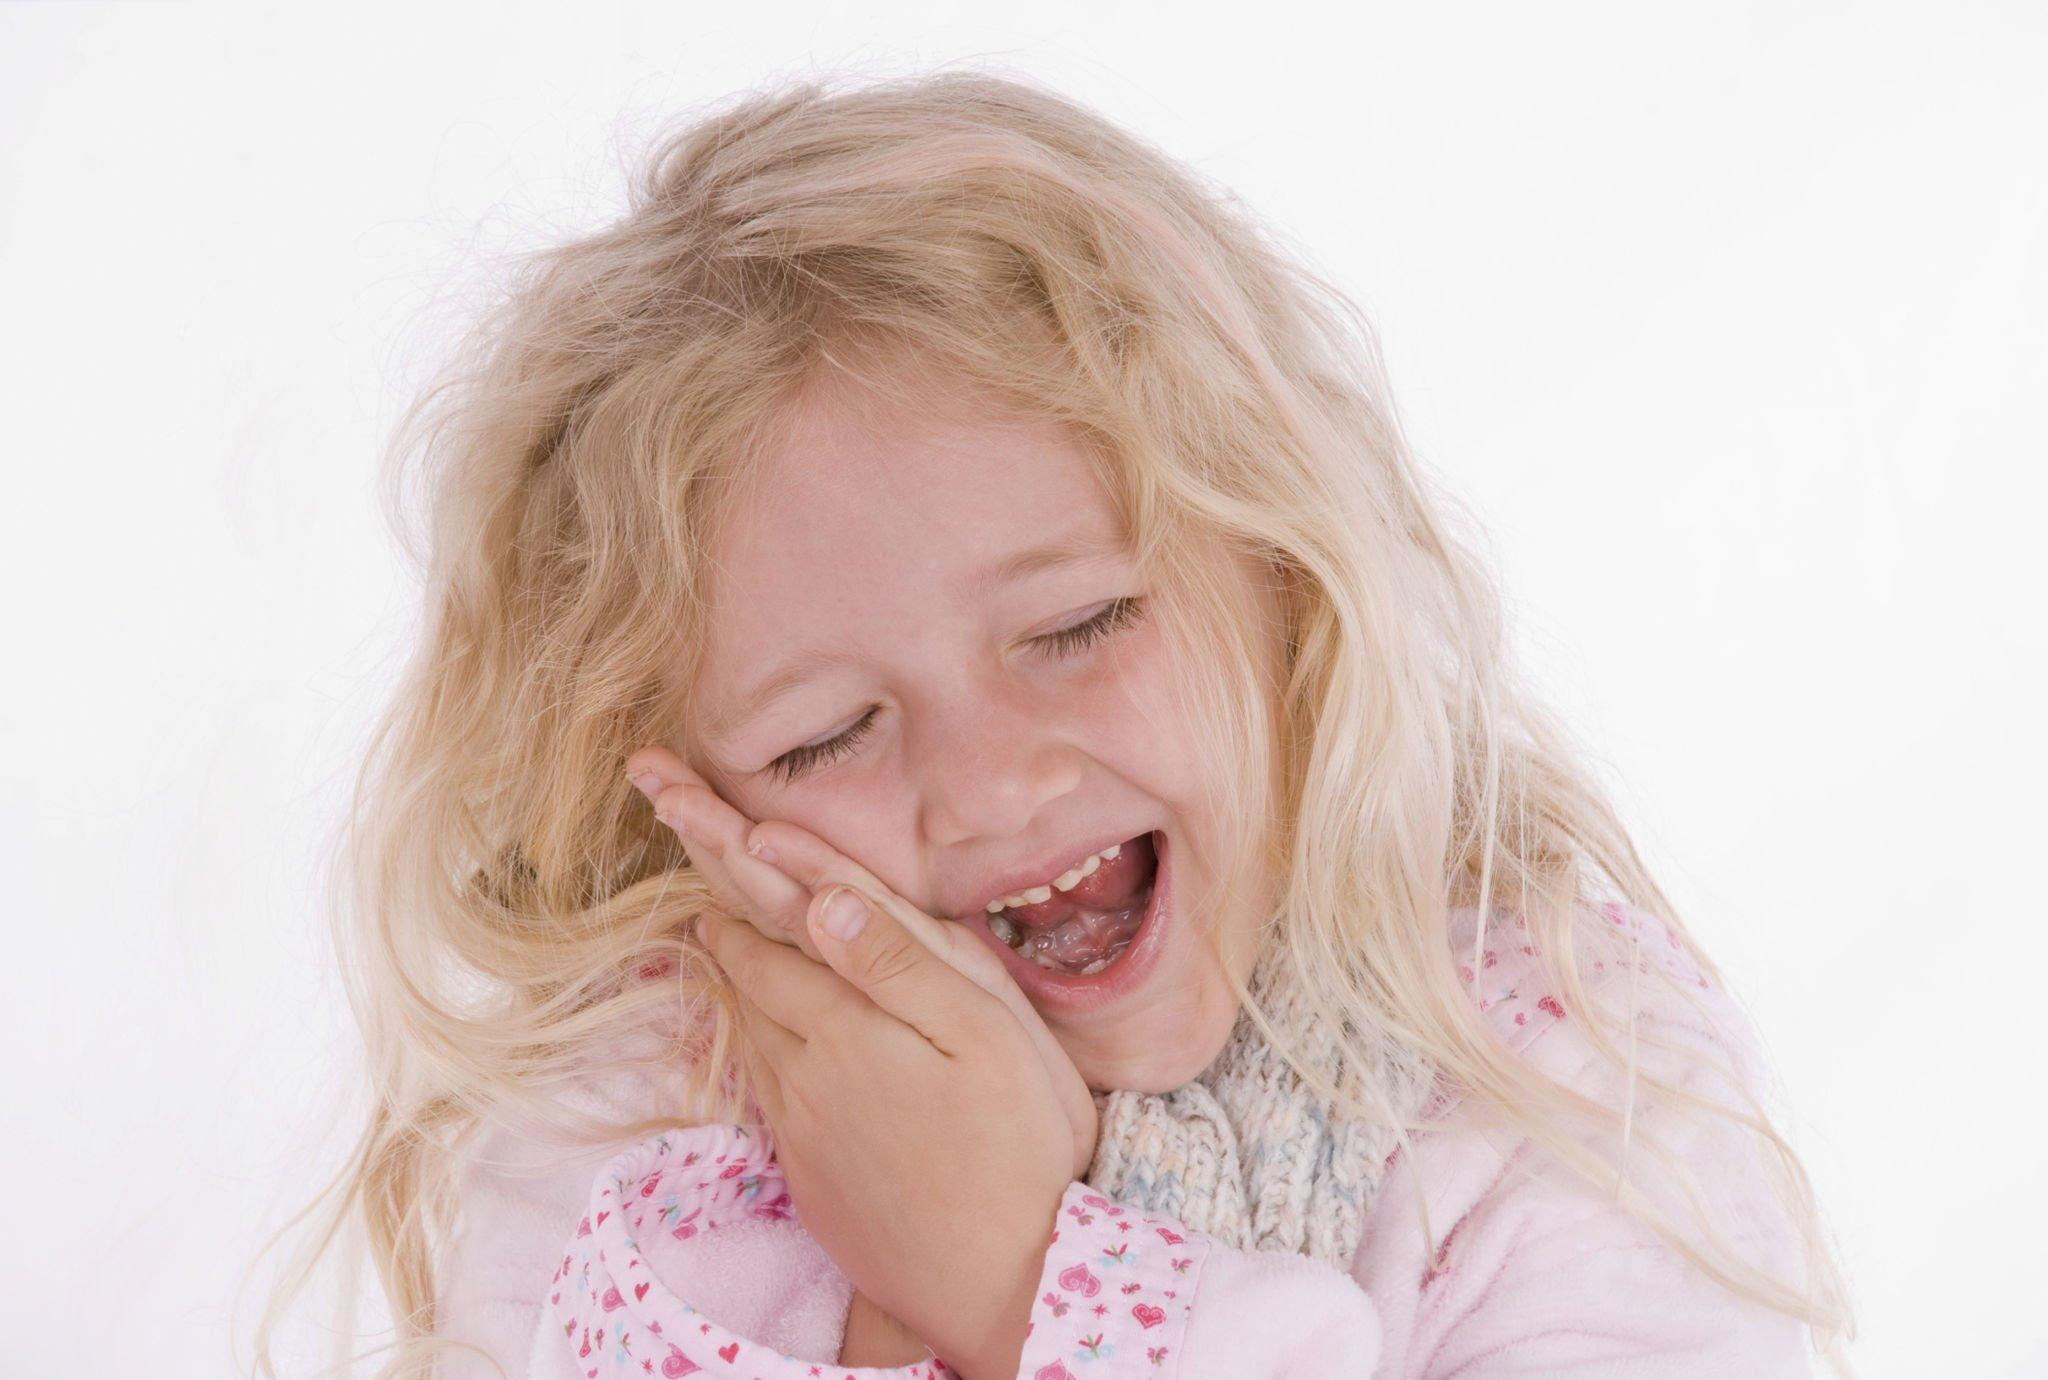Healthy: (596, 226, 1435, 1135)
